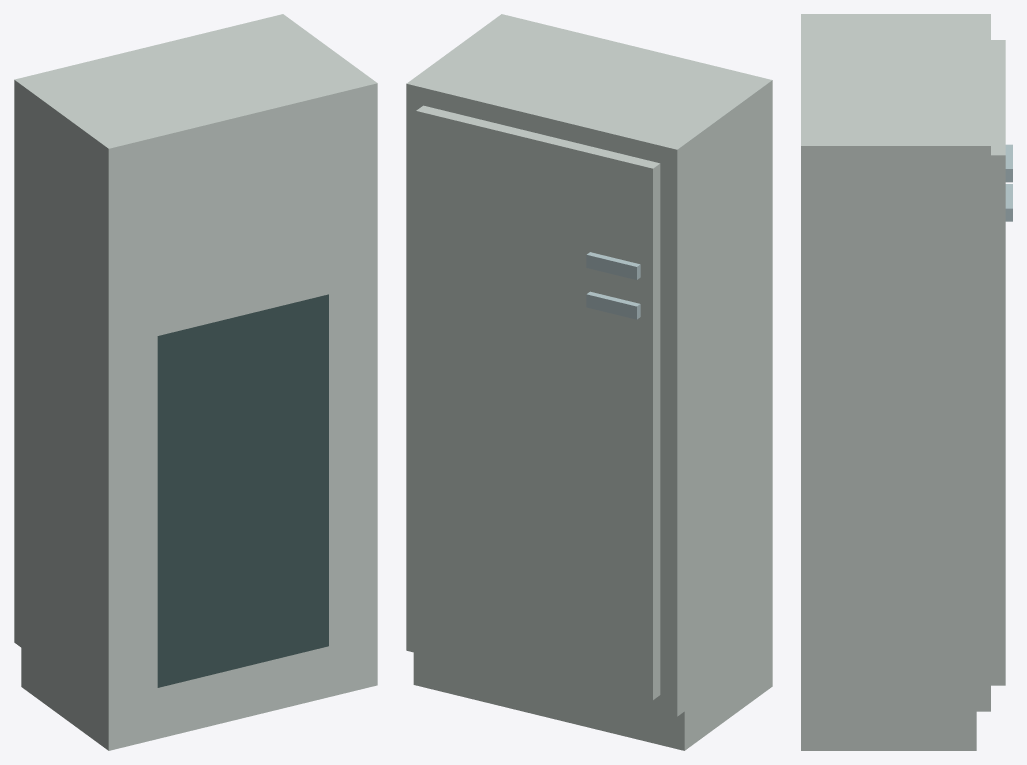
File: Kitchen Fridge.glb
The picture shows the model from 3 angles, left to right: view 1: azimuth 30°, elevation 25°; view 2: azimuth 150°, elevation 25°; view 3: azimuth 270°, elevation 25°; orthographic projection.
Visible parts, largest first — view 1: kitchenFridge; view 2: kitchenFridge, doorFridge, doorFreezer; view 3: kitchenFridge, doorFridge, doorFreezer.
Boxes of the visible parts, x1,y1,x2,y2 form: kitchenFridge: [14, 14, 377, 750]; kitchenFridge: [406, 14, 772, 750]; doorFridge: [416, 236, 660, 699]; doorFreezer: [416, 105, 660, 293]; kitchenFridge: [801, 14, 990, 750]; doorFridge: [991, 184, 1012, 685]; doorFreezer: [991, 40, 1012, 279].
Bounding box in the file's own units: 0.43 × 0.92 × 0.2919.
